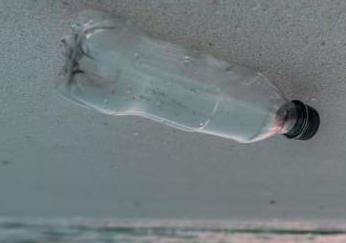Plastic: (48, 0, 322, 150)
